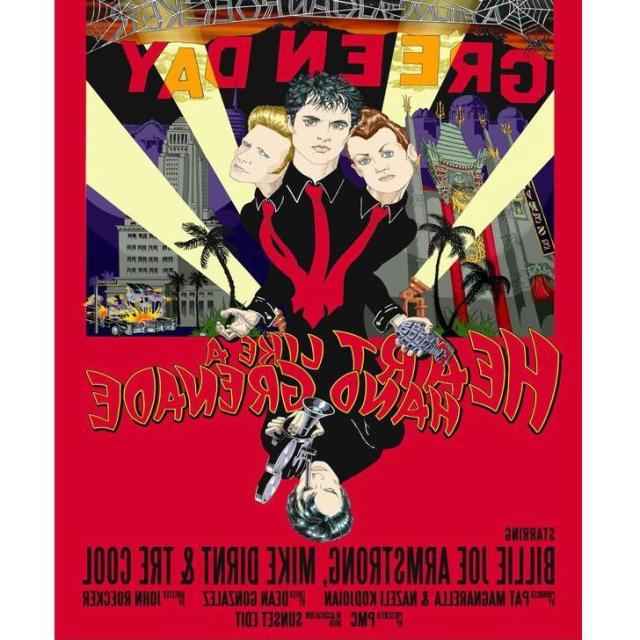grenade: (398, 320, 458, 364)
